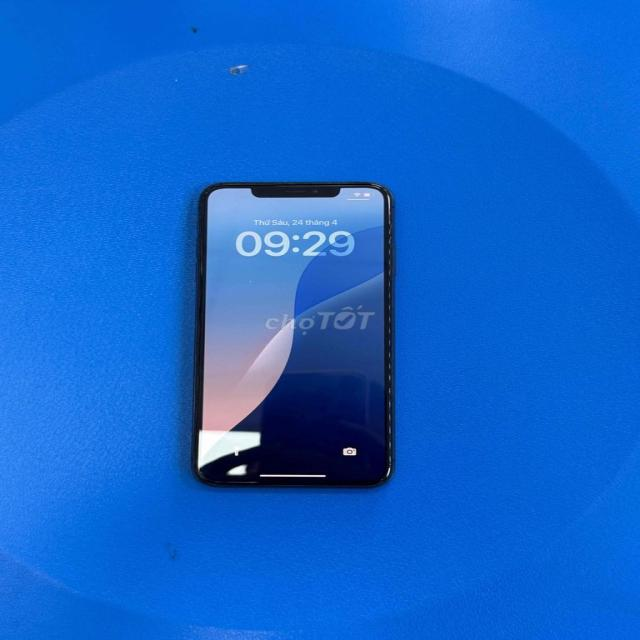gen_x_xs: (194, 179, 398, 496)
